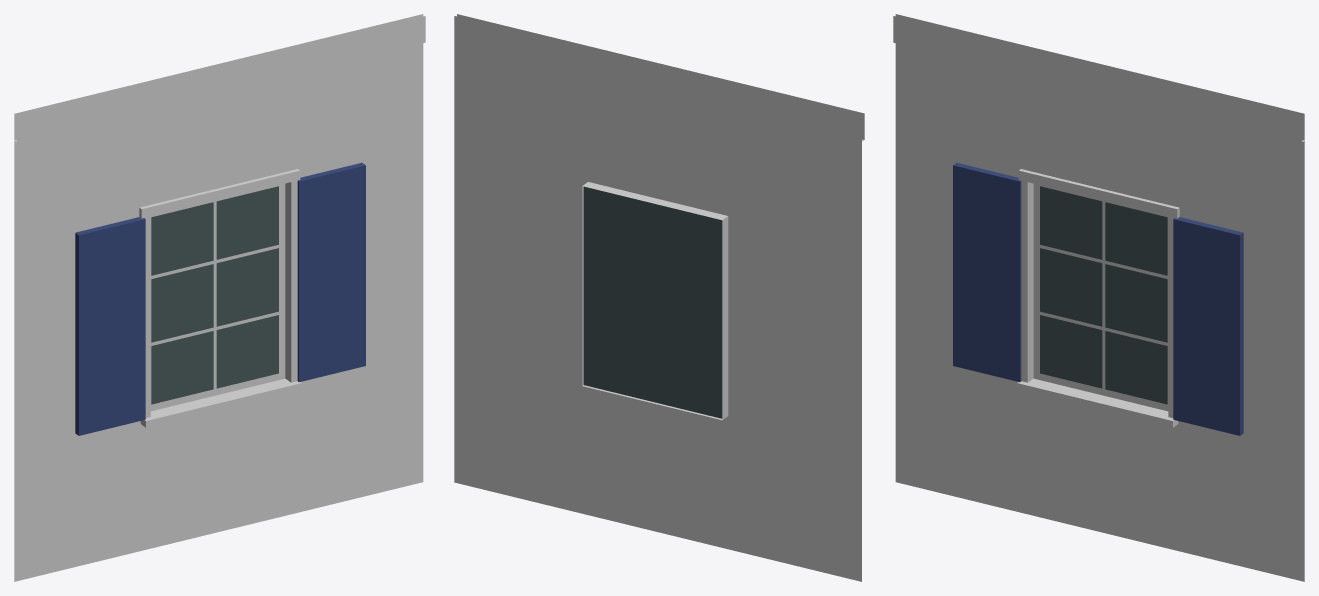
File: mid-w1.fbx
3 views of the same model, side by side, from view 1: azimuth 30°, elevation 25°; view 2: azimuth 150°, elevation 25°; view 3: azimuth 330°, elevation 25° (orthographic).
Visible parts, largest first — view 1: a2000/600/mid-w1; view 2: a2000/600/mid-w1; view 3: a2000/600/mid-w1.
Boxes of the visible parts, x1,y1,x2,y2 form: a2000/600/mid-w1: (14, 14, 425, 581); a2000/600/mid-w1: (454, 14, 864, 581); a2000/600/mid-w1: (893, 14, 1304, 581).
Bounding box in the file's own units: 3.2 × 3.5 × 0.15.
